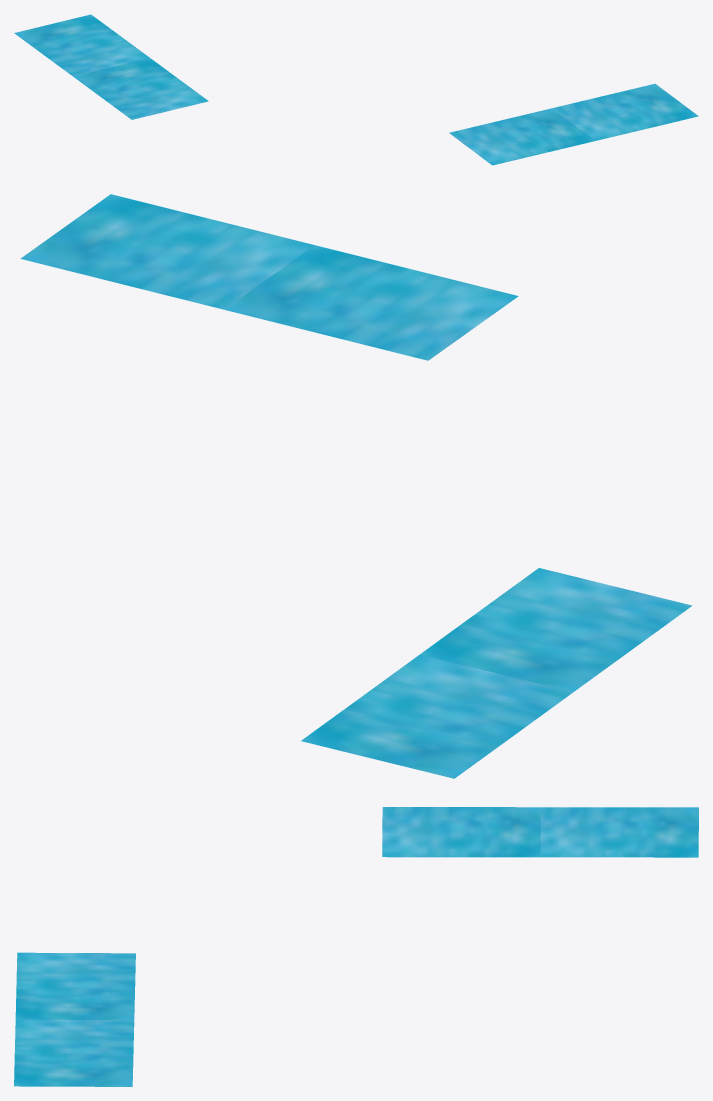
The model's file is corral_water.dae.
3 renders of one model, top to bottom at view 1: azimuth 30°, elevation 25°; view 2: azimuth 150°, elevation 25°; view 3: azimuth 270°, elevation 25°, orthographic. The views are drawn at different scales.
Parts seen in each view (by area): view 1: corral.001; view 2: corral.001; view 3: corral.001.
Part boxes in pixels (x1,y1,x2,y2): corral.001: (14, 14, 698, 165); corral.001: (20, 194, 692, 778); corral.001: (14, 807, 698, 1086).
Size of the model in its own units: 7.82 by 8.09 by 0.
